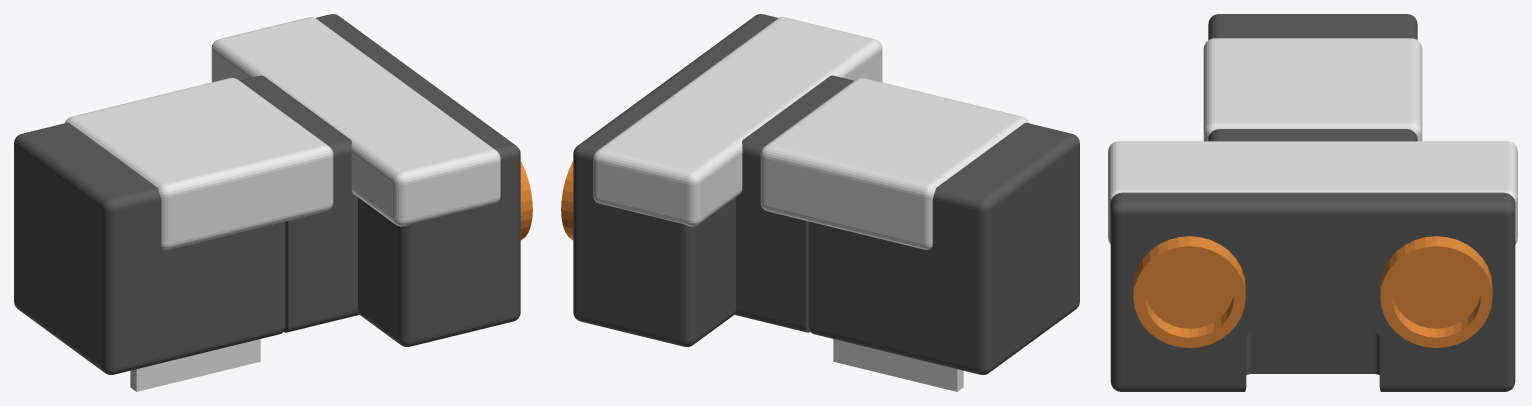
Rendered from distance_sensor.fbx.
3 renders of one model, left to right at view 1: azimuth 30°, elevation 25°; view 2: azimuth 150°, elevation 25°; view 3: azimuth 270°, elevation 25°, orthographic. The views are drawn at different scales.
Parts seen in each view (by area): view 1: Cube.003, Cube.002, Cube, Cube.001, Cylinder; view 2: Cube.003, Cube.002, Cube, Cube.001, Cylinder; view 3: Cube.003, Cube, Cylinder, Cube.002.
Boxes of the visible parts, <box> form: Cube.003: <box>14,14,520,374</box>; Cube.002: <box>65,78,333,249</box>; Cube: <box>211,17,500,226</box>; Cube.001: <box>130,339,260,391</box>; Cylinder: <box>520,161,532,240</box>; Cube.003: <box>573,14,1079,374</box>; Cube.002: <box>760,78,1028,249</box>; Cube: <box>593,17,882,226</box>; Cube.001: <box>833,339,963,391</box>; Cylinder: <box>561,161,573,240</box>; Cube.003: <box>1110,14,1515,391</box>; Cube: <box>1108,141,1517,244</box>; Cylinder: <box>1133,236,1492,347</box>; Cube.002: <box>1203,38,1422,141</box>.
Size of the model in its own units: 465 by 243 by 392.
